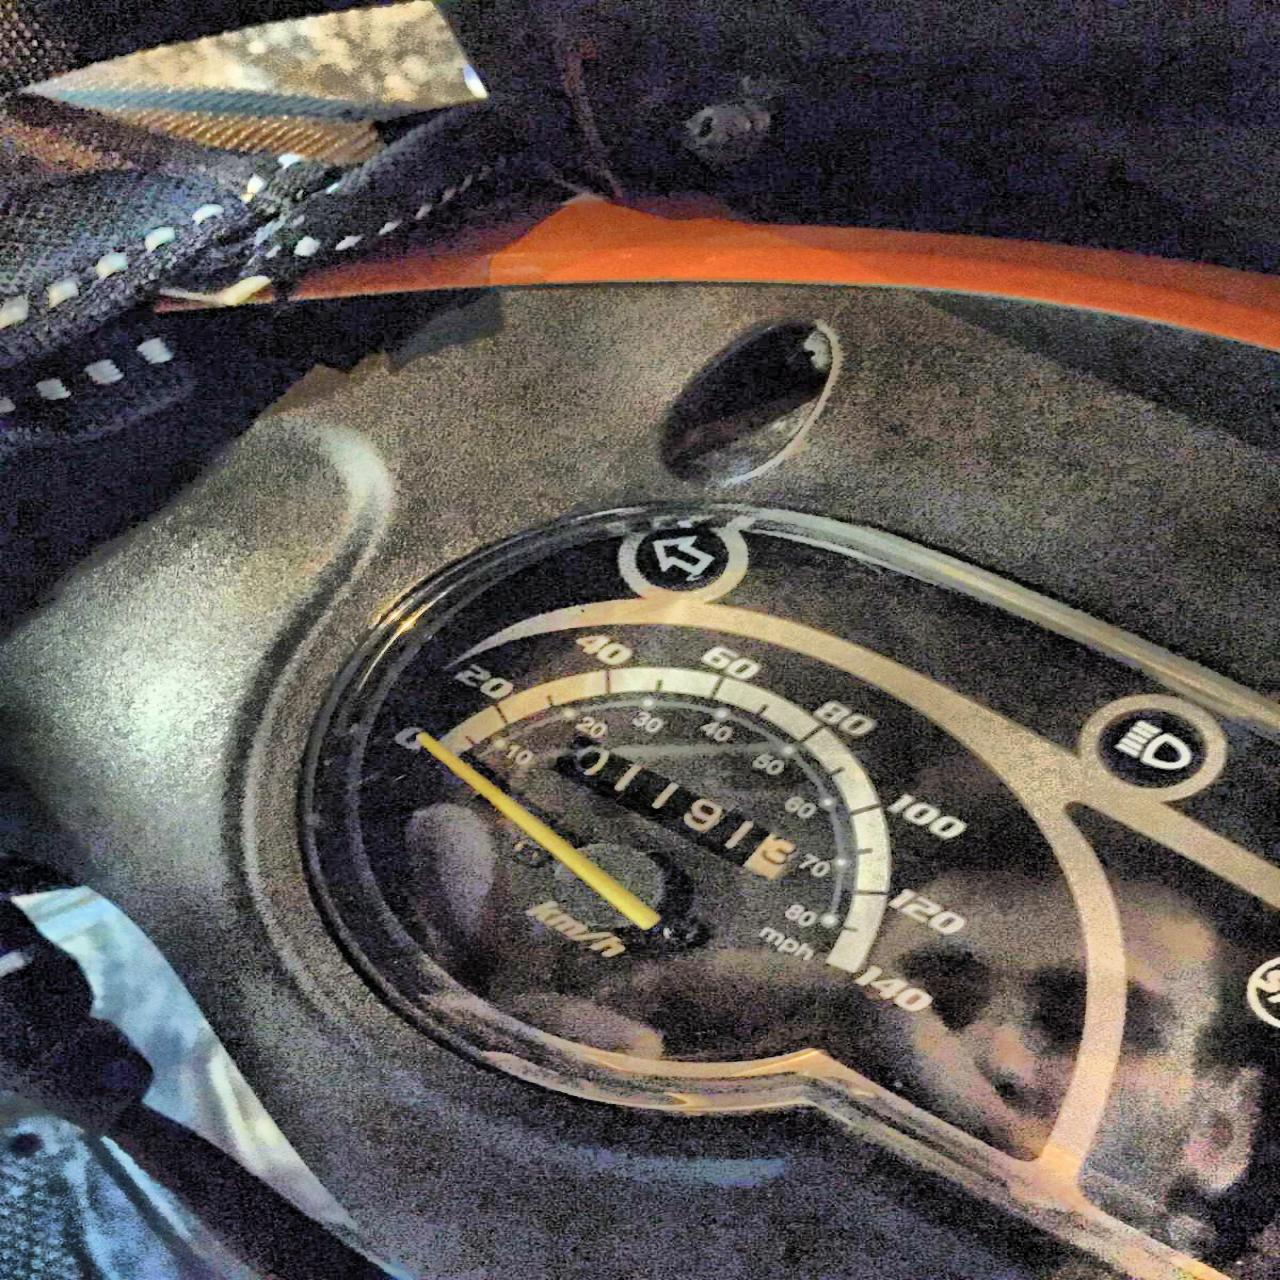0: (573, 742, 607, 777), (767, 760, 783, 775), (713, 729, 729, 742)
1: (722, 819, 753, 849), (648, 782, 679, 809), (613, 764, 642, 790)
3: (760, 833, 798, 865)
5: (751, 753, 770, 768)
6: (784, 795, 802, 811)
9: (681, 797, 721, 831)
odometer: (540, 729, 802, 884)
